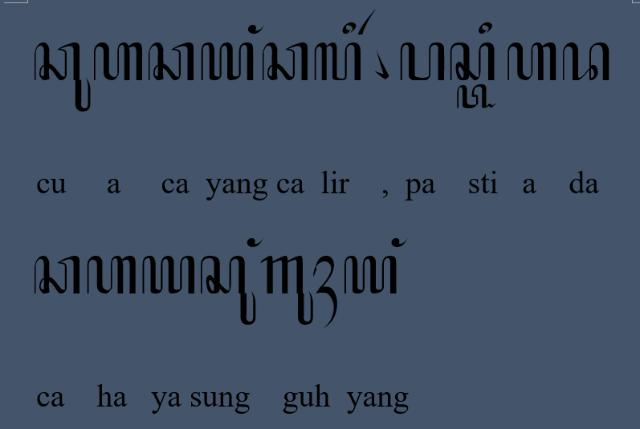_h1: (315, 255, 339, 329)
_r1: (357, 7, 378, 35)
_t: (456, 83, 496, 109)
c: (32, 254, 82, 297), (260, 39, 308, 82), (146, 40, 194, 81)
cu: (33, 42, 91, 112)
d: (560, 40, 612, 84)
gu: (260, 254, 314, 326)
h: (85, 252, 137, 296), (506, 40, 558, 81), (92, 42, 144, 82)
i: (340, 20, 358, 36), (478, 20, 492, 36)
kom: (374, 48, 391, 80)
l: (312, 42, 363, 84)
ng: (245, 236, 265, 248), (391, 237, 409, 250), (248, 22, 264, 36)
p: (399, 42, 446, 82)
s: (448, 40, 496, 81)
su: (200, 254, 258, 326)
y: (343, 254, 399, 297), (200, 40, 254, 84), (140, 253, 196, 295)
